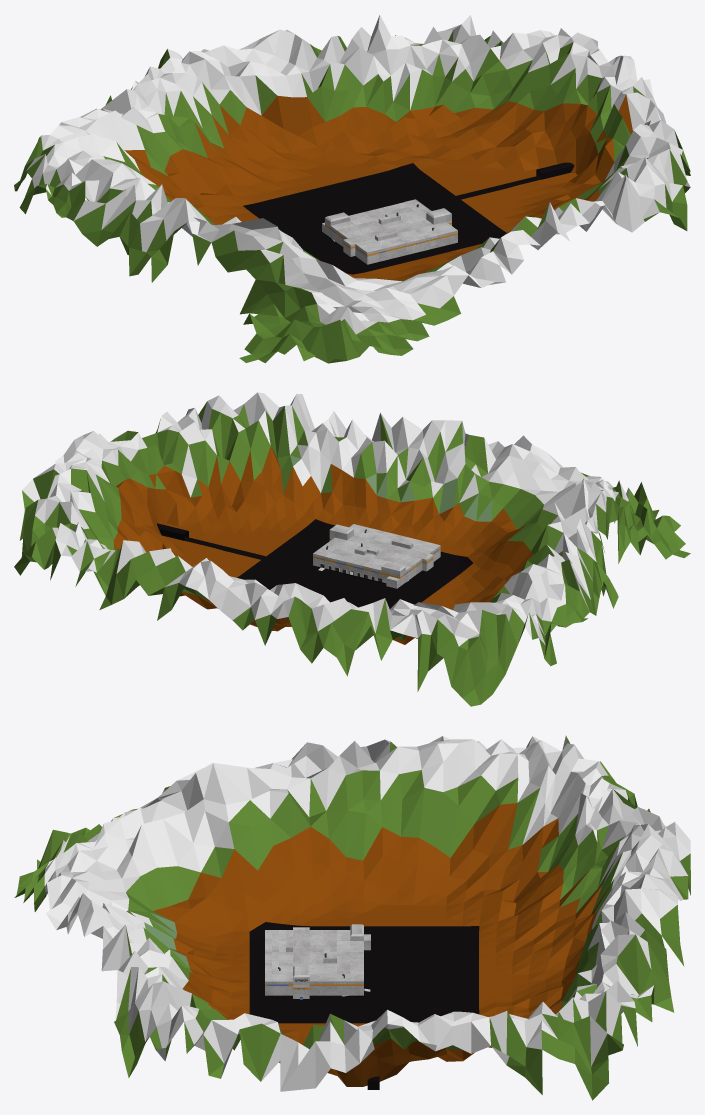
Rendered from amazonmapV4.glb.
3 renders of one model, top to bottom at view 1: azimuth 30°, elevation 25°; view 2: azimuth 150°, elevation 25°; view 3: azimuth 270°, elevation 25°, orthographic. The views are drawn at different scales.
Parts seen in each view (by area): view 1: Plane, ceiling, warehouse; view 2: Plane, ceiling, warehouse; view 3: Plane, ceiling, warehouse.
Boxes of the visible parts, <box> form: Plane: <box>14,15,690,363</box>; ceiling: <box>325,199,457,252</box>; warehouse: <box>322,212,457,264</box>; Plane: <box>14,392,690,706</box>; ceiling: <box>313,524,440,574</box>; warehouse: <box>313,536,440,588</box>; Plane: <box>14,736,690,1100</box>; ceiling: <box>265,924,363,984</box>; warehouse: <box>265,927,370,999</box>.
Size of the model in its own units: 21.76 by 3.65 by 19.45.
Materials: 13 (6 with a texture image).
